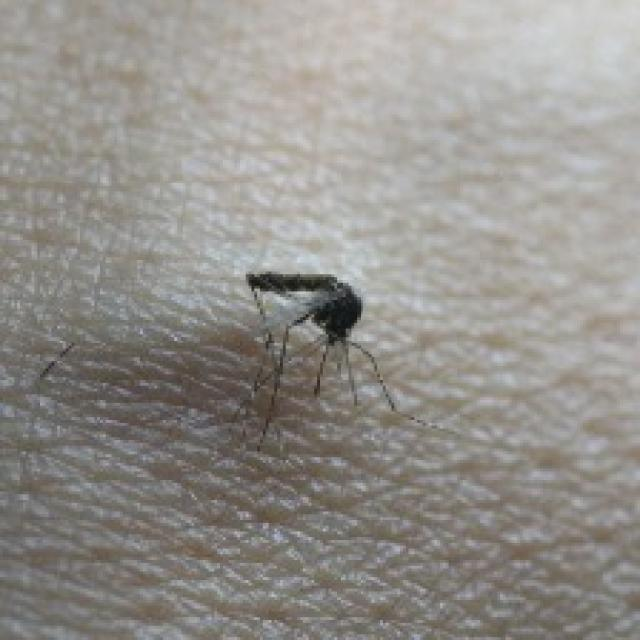aedes: (234, 266, 400, 448)
